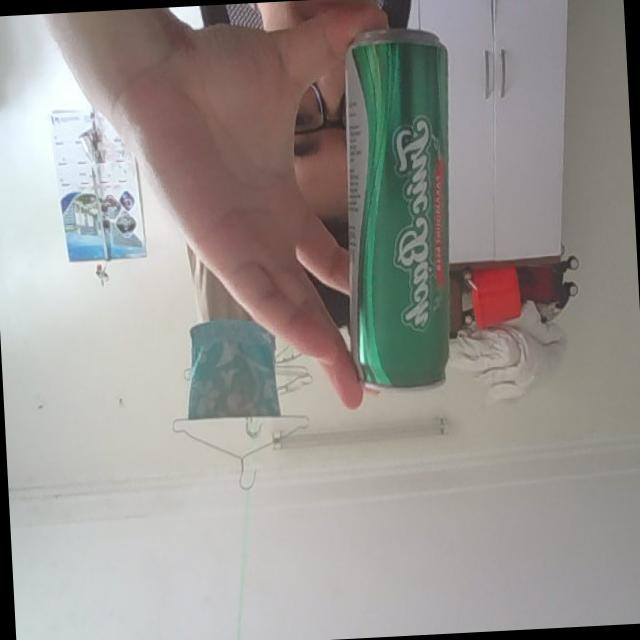Bia-Truc-Bach: (332, 26, 471, 400)
